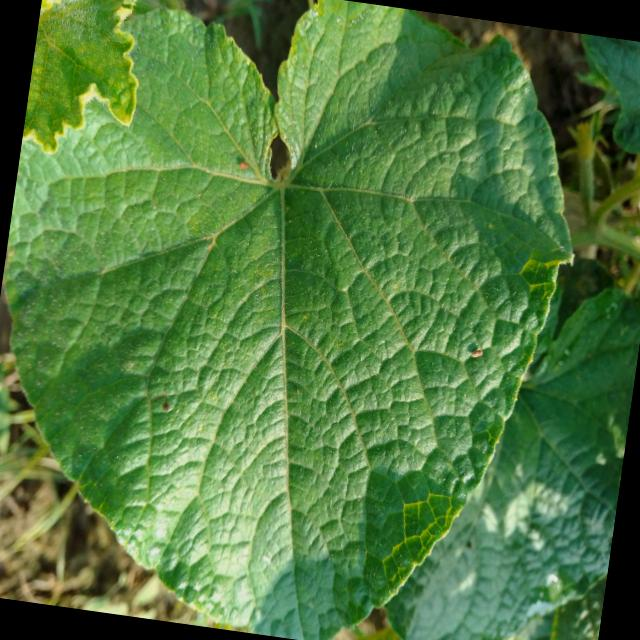cucumber_healthy: (0, 0, 608, 640), (375, 257, 640, 640), (19, 0, 163, 172), (564, 34, 640, 169)
